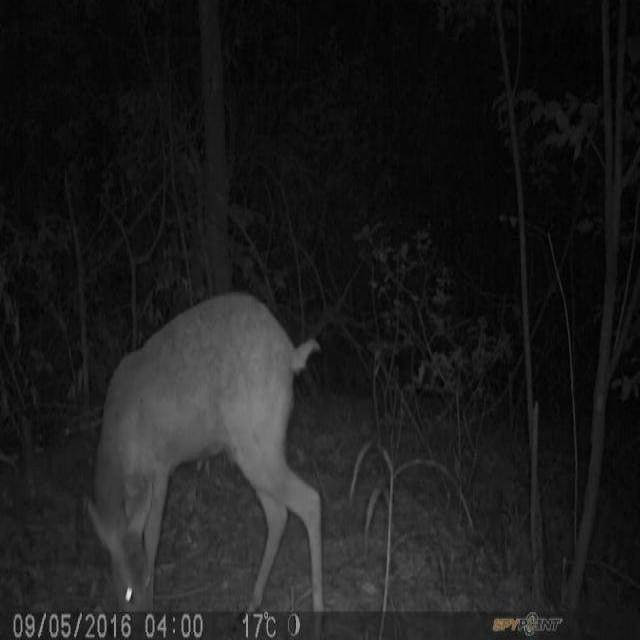deer: (83, 291, 330, 608)
